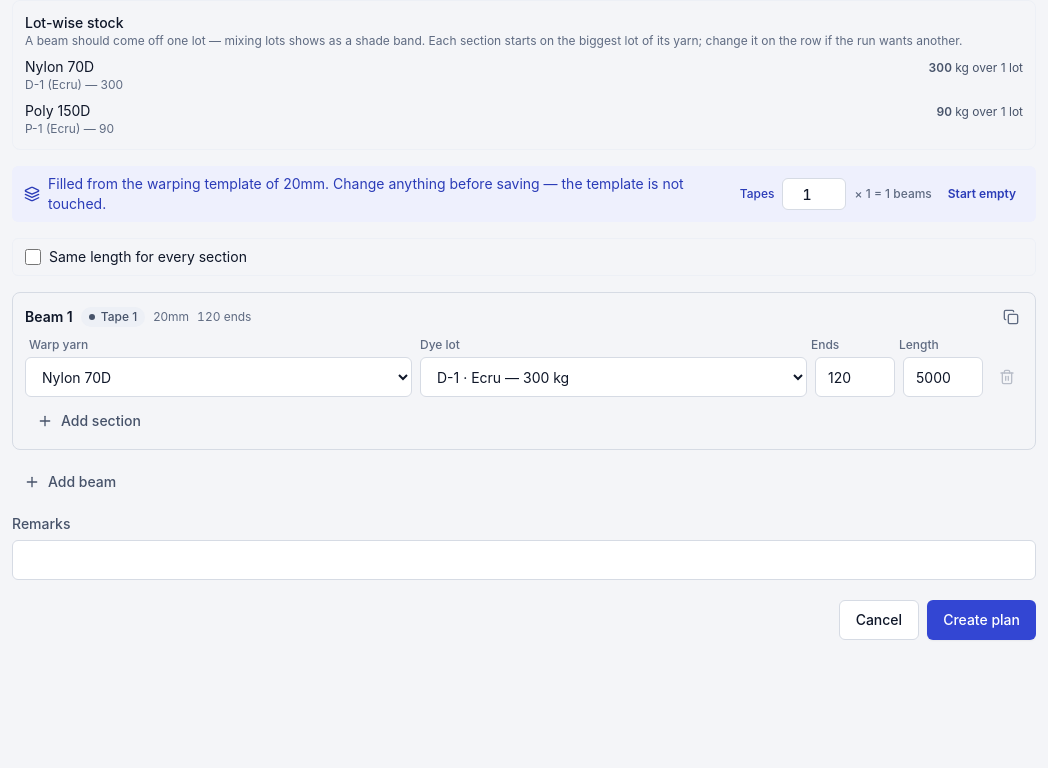
Scenario: when the yarn on the row changes › replaces a lot that belongs to the old yarn
Check: the dropdown named "Dye lot" shows "D-1 · Ecru — 300 kg", box [420,357,807,397]
Select "Poly 150D" in the dropdown named "Warp yarn" at (218, 377), box [25,357,412,397]
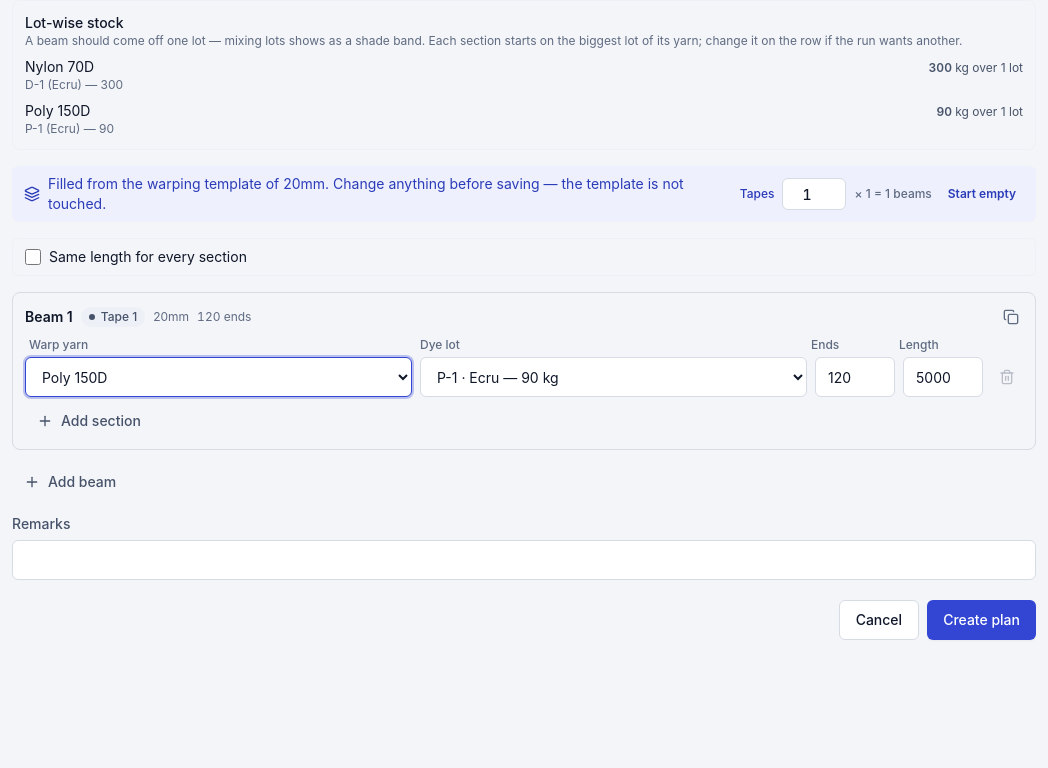
Check: the dropdown named "Dye lot" shows "P-1 · Ecru — 90 kg", box [420,357,807,397]
